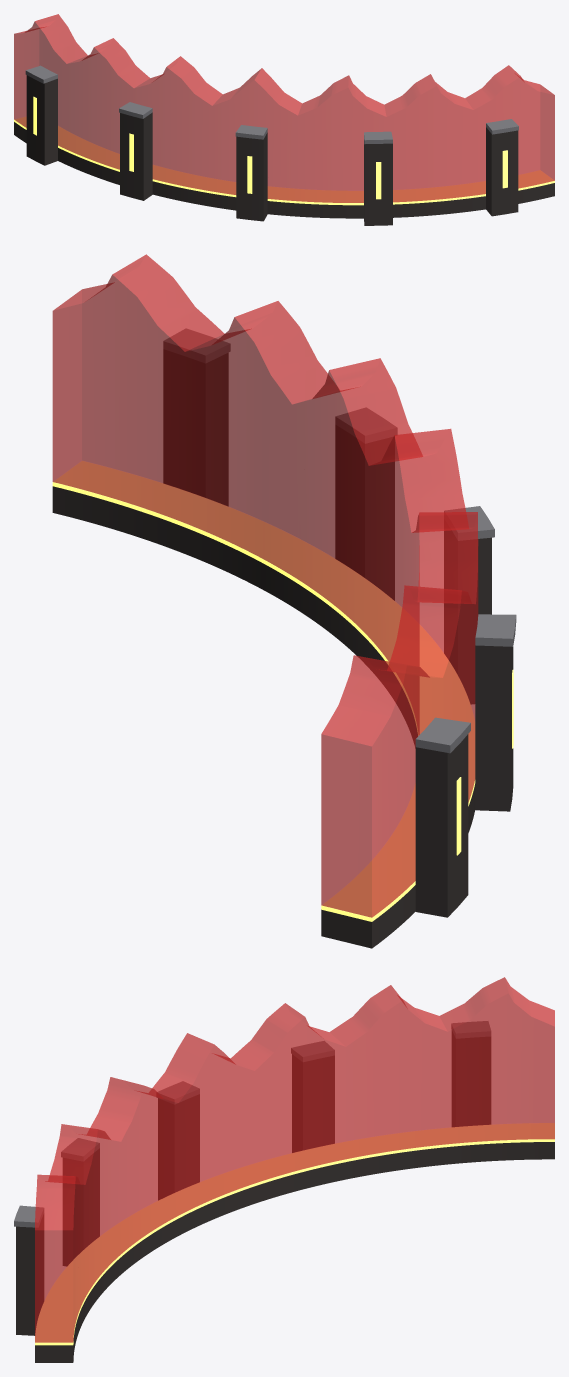
File: Guide_Haut_Droite_Modele.fbx
3 renders of one model, top to bottom at view 1: azimuth 30°, elevation 25°; view 2: azimuth 150°, elevation 25°; view 3: azimuth 270°, elevation 25°, orthographic. The views are drawn at different scales.
Visible parts, largest first — view 1: Guide_Haut_Droite_Modele; view 2: Guide_Haut_Droite_Modele; view 3: Guide_Haut_Droite_Modele.
Boxes of the visible parts, x1,y1,x2,y2 form: Guide_Haut_Droite_Modele: [14, 14, 554, 225]; Guide_Haut_Droite_Modele: [52, 254, 516, 948]; Guide_Haut_Droite_Modele: [14, 977, 554, 1362].
Size of the model in its own units: 2.81 by 1 by 2.81.
